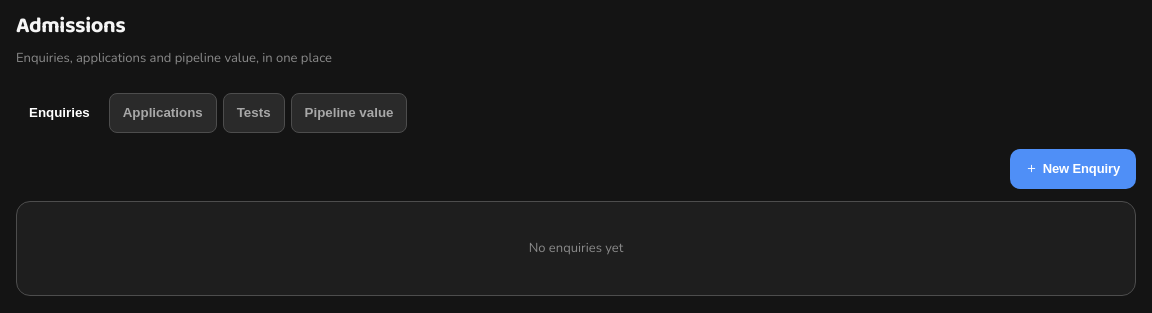
Test case: the Tests tab is here now, and it opens onto a real screen
Click the tab "Tests" at (254, 113), box x1=223 y1=93 x2=284 y2=133
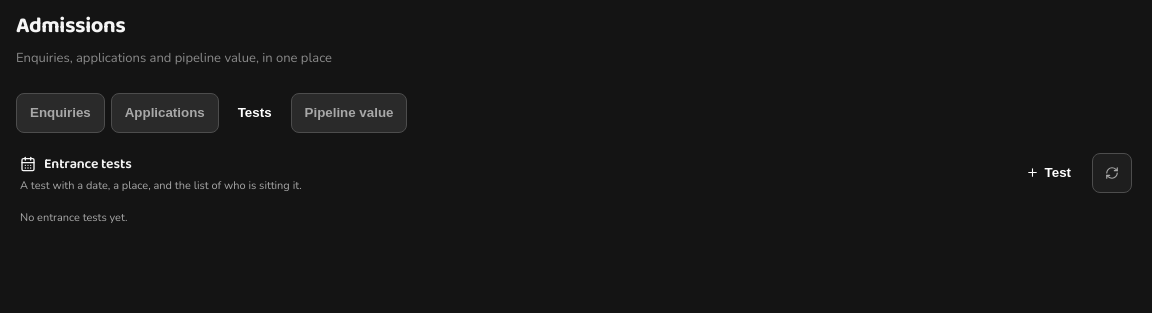
Expected: the element "Entrance tests" is shown, x1=16 y1=149 x2=1136 y2=233
Expected: the button "Test" is shown, x1=1013 y1=153 x2=1084 y2=193
